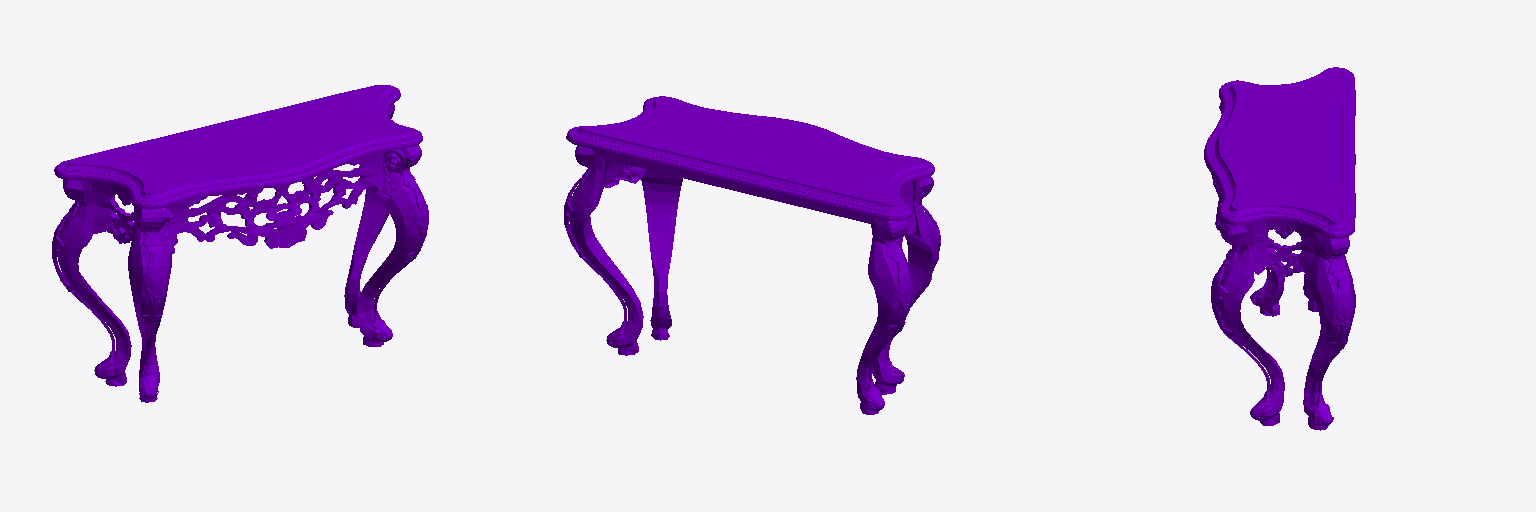
File: ClassicConsole_01.obj
3 renders of one model, left to right at view 1: azimuth 30°, elevation 25°; view 2: azimuth 150°, elevation 25°; view 3: azimuth 270°, elevation 25°, orthographic.
Visible parts, largest first — view 1: ClassicConsole_01_Plane.000; view 2: ClassicConsole_01_Plane.000; view 3: ClassicConsole_01_Plane.000.
Boxes of the visible parts, x1,y1,x2,y2 form: ClassicConsole_01_Plane.000: [52, 85, 428, 402]; ClassicConsole_01_Plane.000: [564, 96, 940, 414]; ClassicConsole_01_Plane.000: [1204, 67, 1355, 430].
Bounding box in the file's own units: 1.54 × 0.9491 × 0.5893.